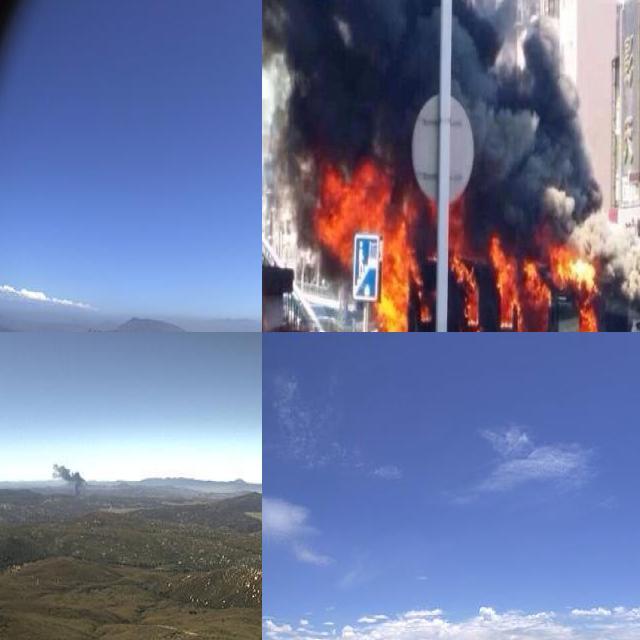fire: (320, 142, 612, 332)
smoke: (262, 0, 640, 288), (50, 457, 90, 502)
